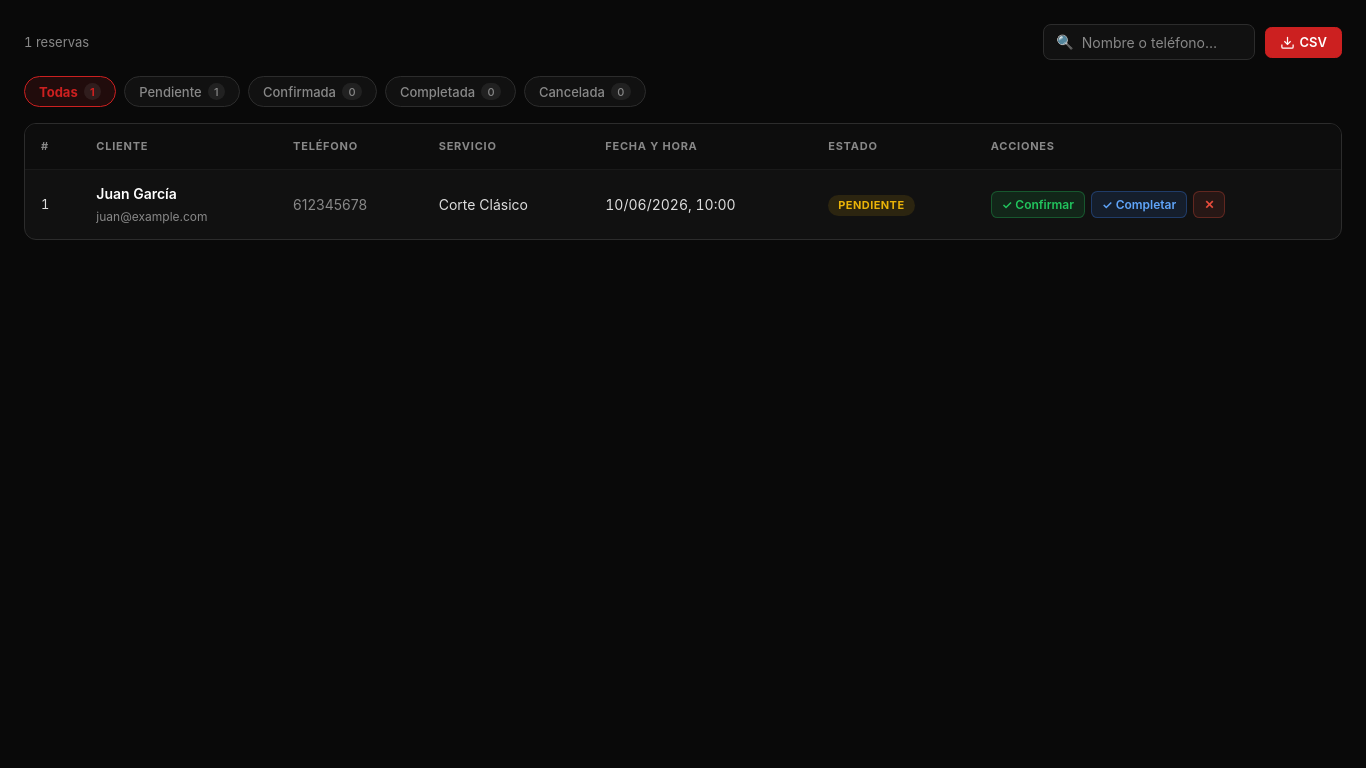
AdminReservas › abre el modal de cancelación al hacer clic en el botón cancelar
Check: the text "Juan García" is shown, box 96,185 -> 177,202
Click the button "✕".
click(1209, 205)  # box 1193,191 -> 1225,218
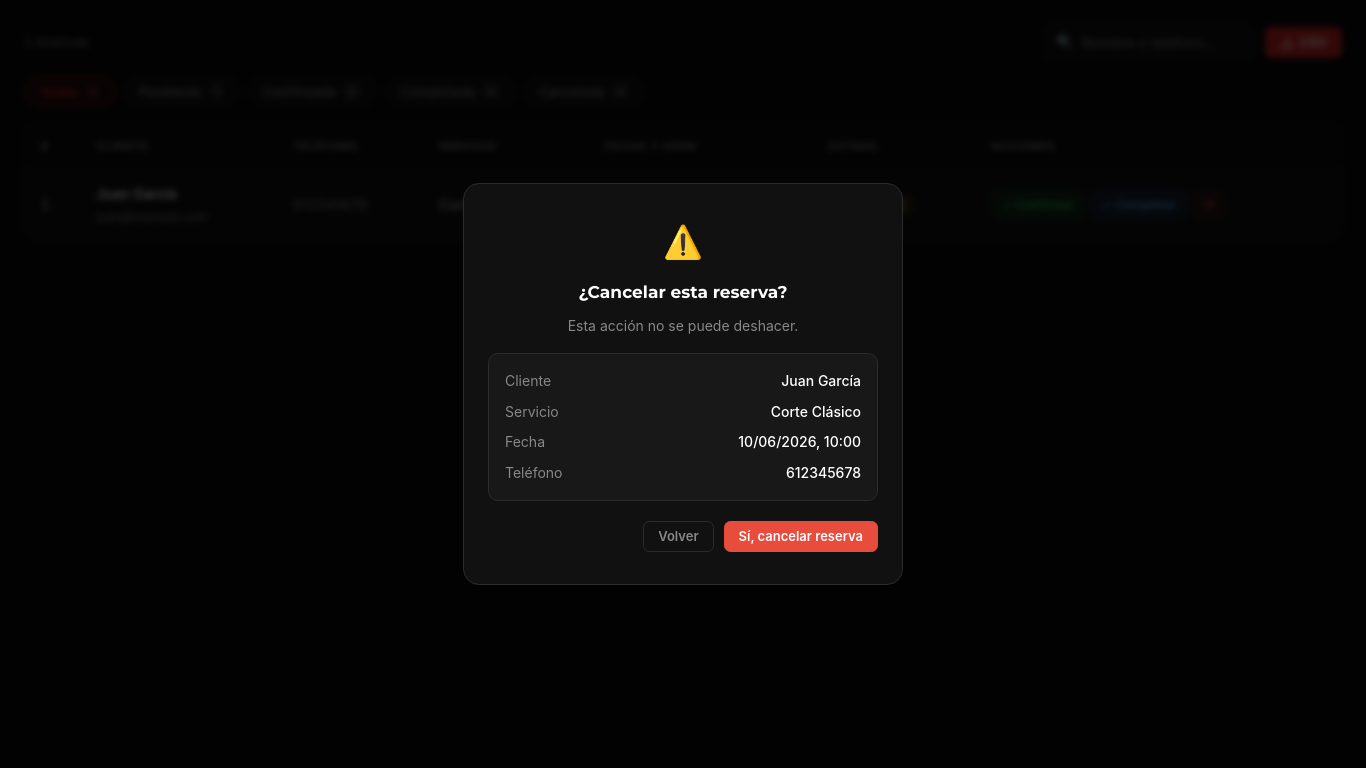
Check: the dialog is shown
